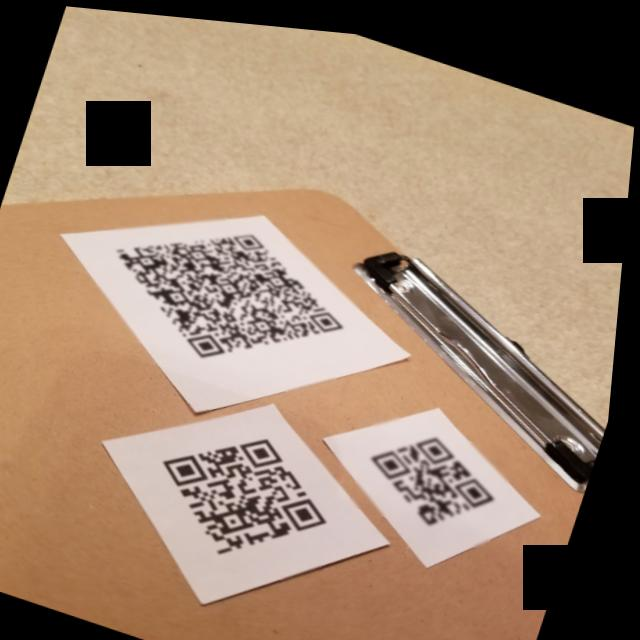QR_CODE: (86, 180, 380, 400), (133, 390, 367, 586), (354, 400, 527, 542)
